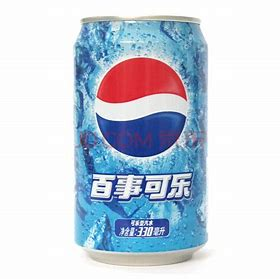Pepsi: (75, 14, 207, 263)
